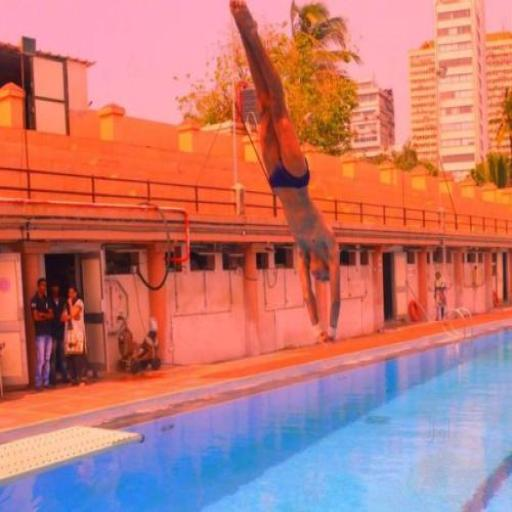swimming: (224, 0, 343, 347), (26, 275, 58, 394), (57, 282, 90, 389)
